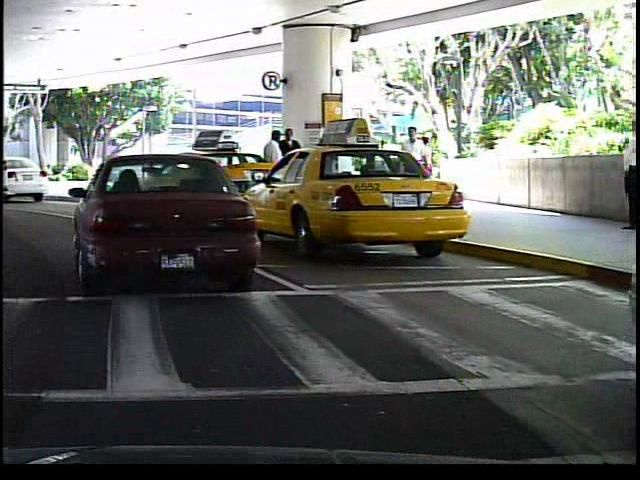person: (395, 120, 431, 210), (257, 126, 288, 210), (411, 131, 442, 202), (280, 126, 303, 205)
